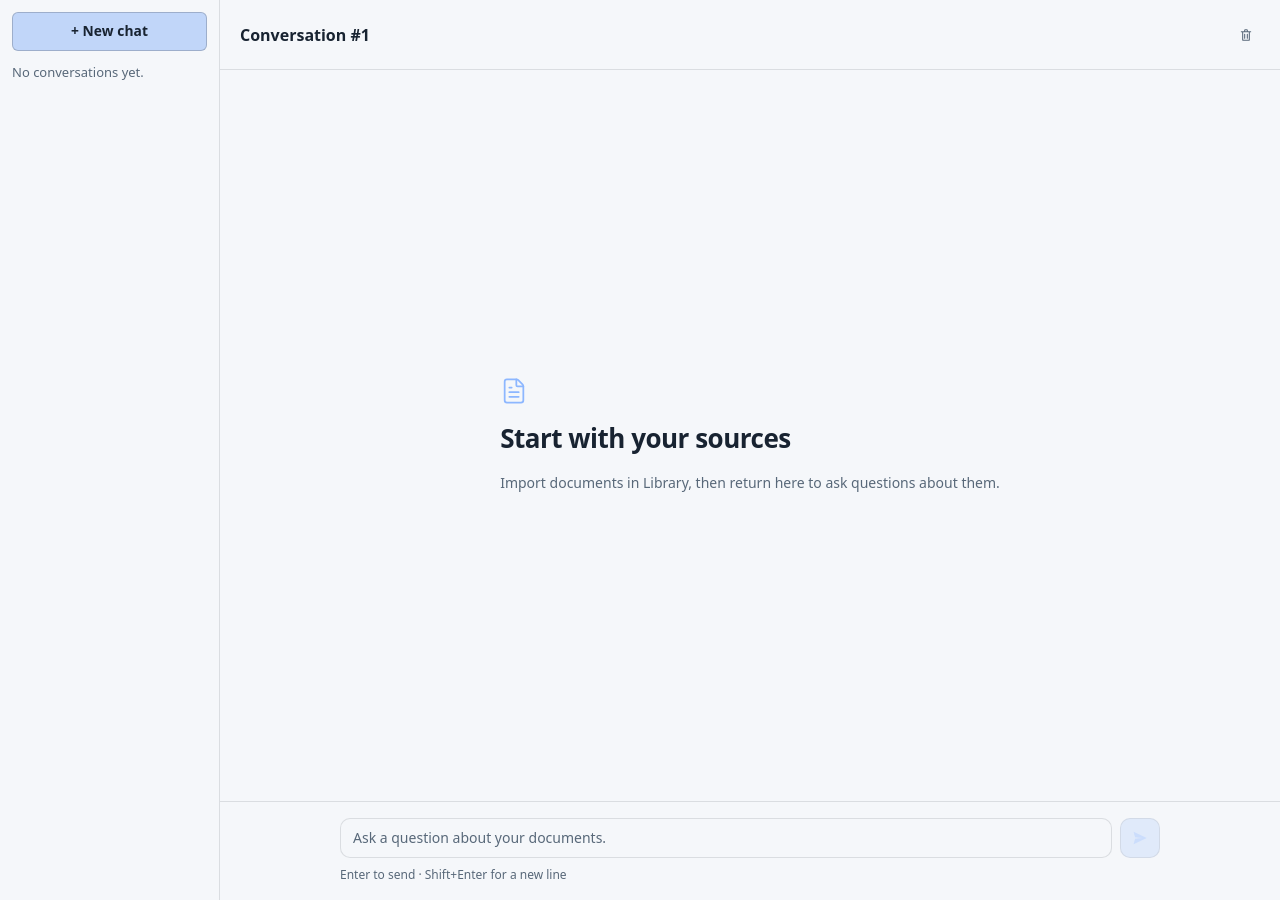
Test: ChatView › ends the streaming placeholder and preserves the question after an IPC failure
Type "Keep this question" into the text box with class "chat__input" at (726,838), box [340,818,1112,858]
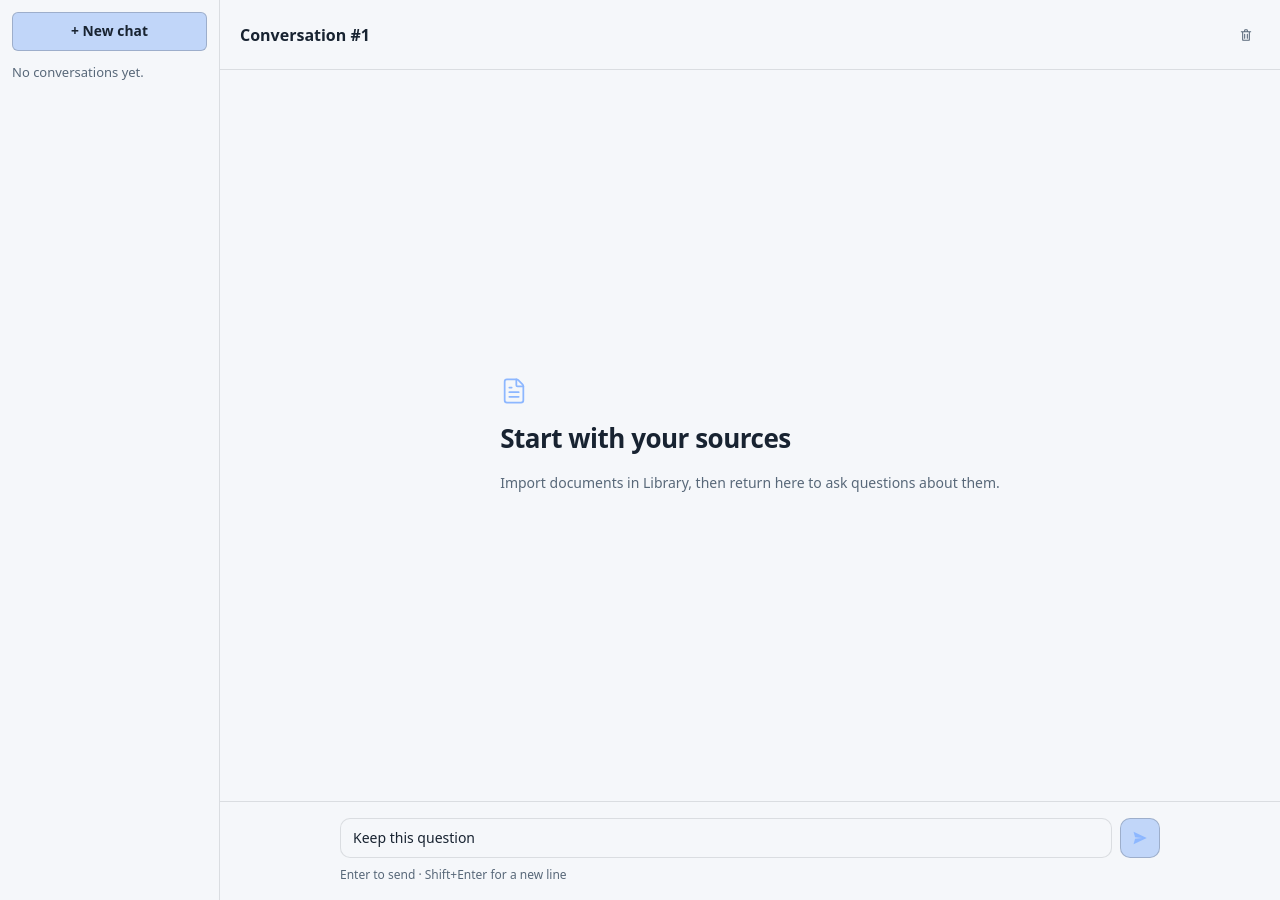
Press Enter in the text box with class "chat__input", box [340,818,1112,858]
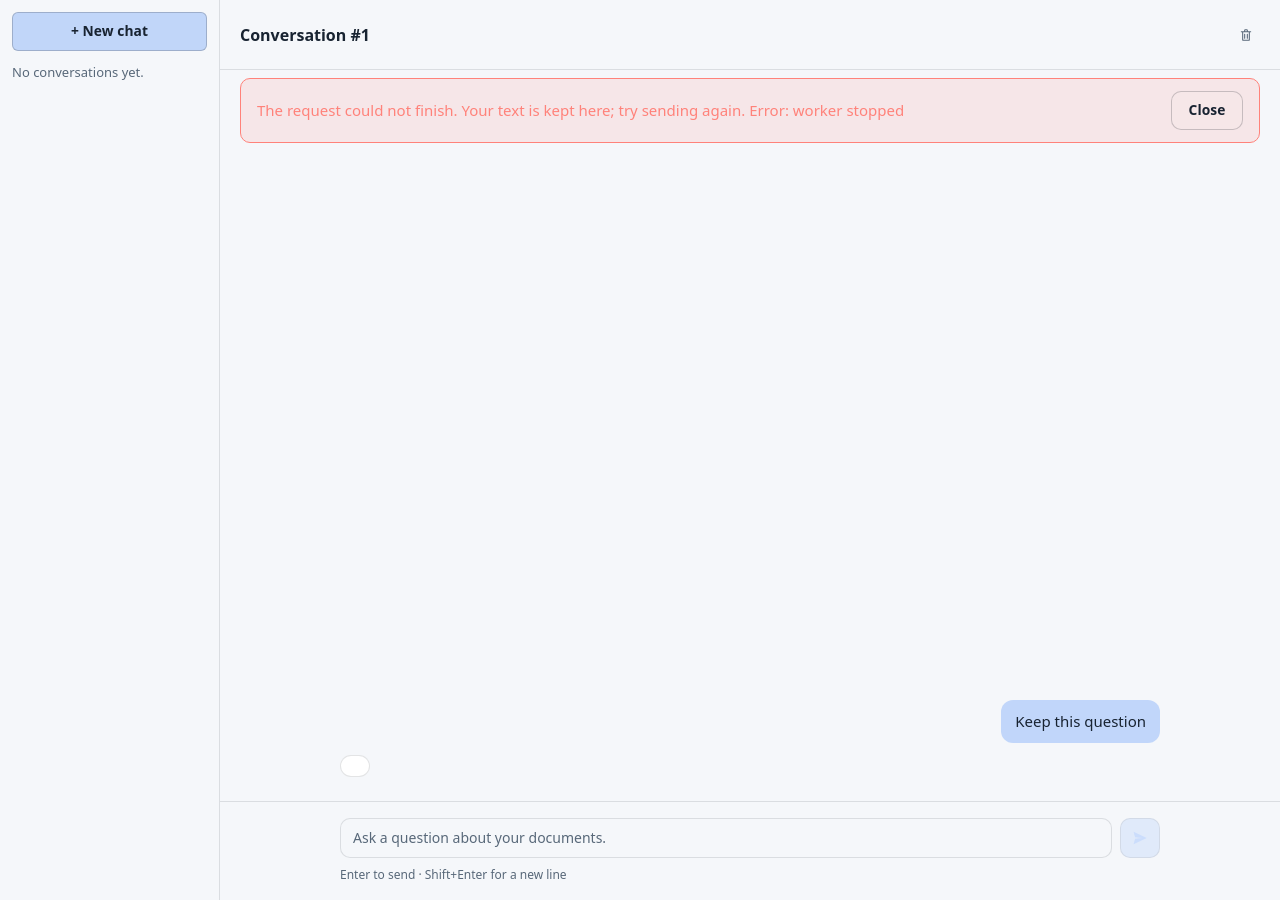
Now the message shows "worker stopped", box [257,100,904,120]
Now the text "Keep this question" is shown, box [1001,700,1160,743]
